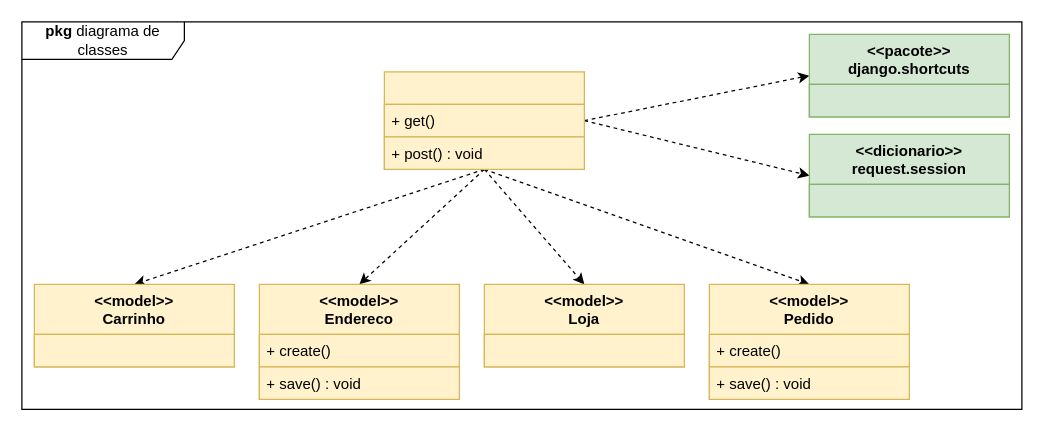
This 1044x431 diagram has some shape labels left out. Each missing label, with the box of its shape:
+ render() : void: (808, 83, 1009, 117)
ConfirmarPedido: (383, 71, 584, 169)
